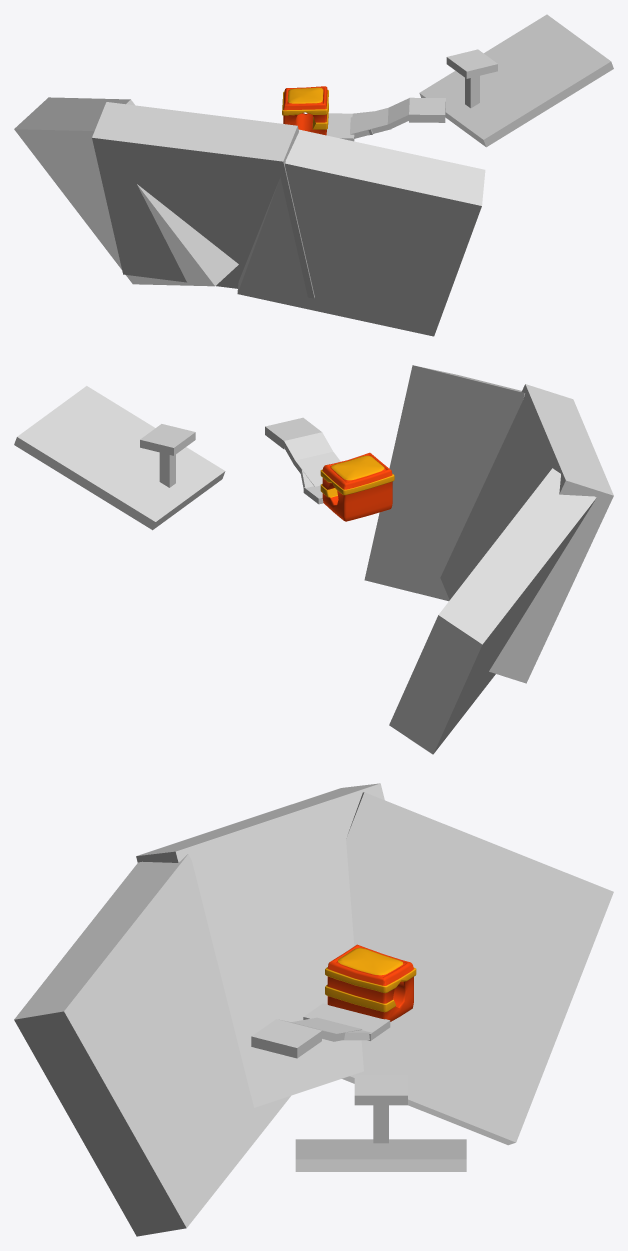
Rendered from StinrayPart.fbx.
3 renders of one model, top to bottom at view 1: azimuth 30°, elevation 25°; view 2: azimuth 150°, elevation 25°; view 3: azimuth 270°, elevation 25°, orthographic. The views are drawn at different scales.
Parts seen in each view (by area): view 1: Cube__2_, Cube__3_, Cube__1_, Floor__35_, Floor__28__1__2_, Floor__34_, Floor__37__1, Floor__37_, Floor__36_, Floor__38_; view 2: Cube__2_, Cube__1_, Cube__3_, Floor__35_, Floor__28__1__2_, Floor__34_, Floor__38_, Floor__37__1, Floor__37_, Floor__36__1; view 3: Cube__1_, Cube__2_, Cube__3_, Floor__35_, Floor__28__1__2_, Floor__37__1, Floor__34_, Floor__36_, Floor__37_, Floor__36__1.
Boxes of the visible parts, box(x1,y1,x2,y2) form: Cube__2_: box(237, 129, 485, 336); Cube__3_: box(92, 102, 314, 298); Cube__1_: box(14, 97, 238, 286); Floor__35_: box(419, 14, 613, 147); Floor__28__1__2_: box(282, 86, 328, 135); Floor__34_: box(446, 49, 497, 78); Floor__37__1: box(409, 97, 445, 122); Floor__37_: box(350, 107, 391, 138); Floor__36_: box(326, 113, 354, 141); Floor__38_: box(387, 98, 410, 129); Cube__2_: box(364, 365, 524, 601); Cube__1_: box(389, 468, 596, 754); Cube__3_: box(440, 384, 613, 683); Floor__35_: box(14, 386, 225, 530); Floor__28__1__2_: box(320, 452, 394, 521); Floor__34_: box(140, 424, 195, 455); Floor__38_: box(283, 432, 332, 463); Floor__37__1: box(265, 417, 321, 449); Floor__37_: box(293, 452, 340, 486); Floor__36__1: box(159, 452, 175, 487); Cube__1_: box(342, 792, 613, 1145); Cube__2_: box(14, 854, 290, 1236); Cube__3_: box(136, 783, 384, 1107); Floor__35_: box(295, 1139, 466, 1171); Floor__28__1__2_: box(325, 944, 416, 1021); Floor__37__1: box(251, 1019, 321, 1058); Floor__34_: box(354, 1075, 407, 1105); Floor__36_: box(303, 1003, 390, 1040); Floor__37_: box(291, 1017, 362, 1041); Floor__36__1: box(373, 1105, 388, 1143).
Bounding box in the file's own units: 8439 × 3835 × 6522.
